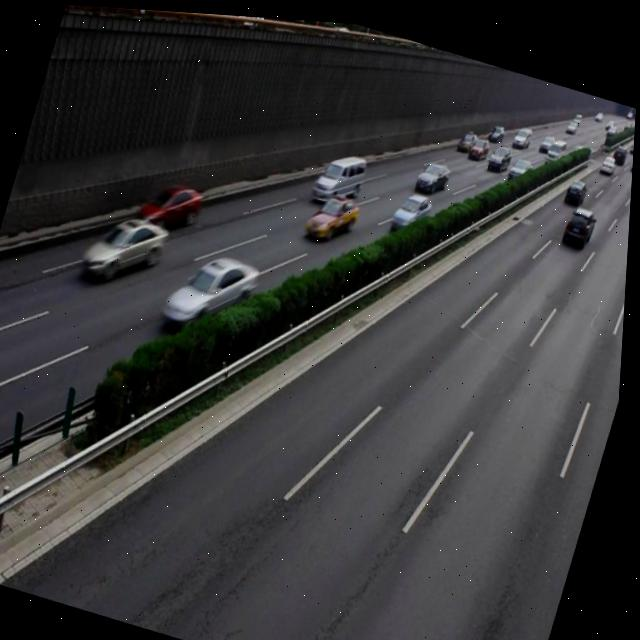car: (161, 238, 264, 338), (78, 200, 174, 294), (135, 171, 207, 239), (304, 180, 362, 243), (389, 180, 436, 232)
truck: (310, 140, 371, 205)
